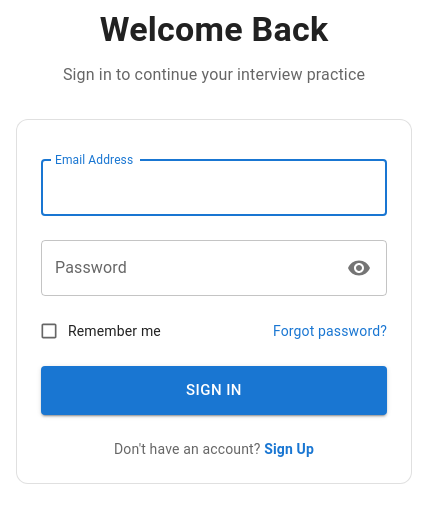
Test: Login Component › Form Validation › shows error when password is too short
Type "test@example.com" into the field labelled "Email Address" at (214, 188), box x1=41 y1=160 x2=387 y2=216
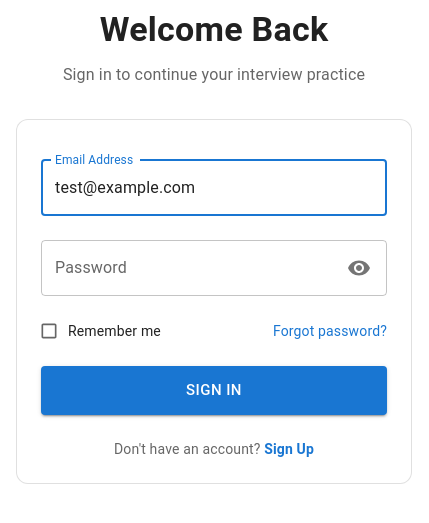
Type "12345" into the password field labelled "Password" at (188, 268), box x1=41 y1=240 x2=334 y2=296
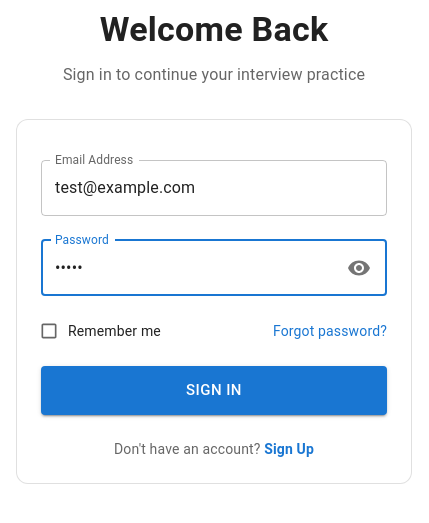
Click the button "Sign In" at (214, 390), box x1=41 y1=366 x2=387 y2=414
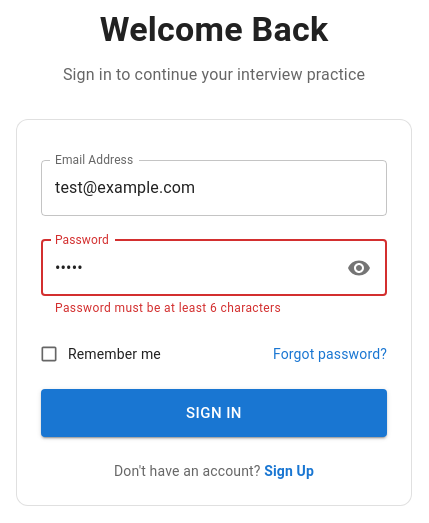
Now the text "Password must be at least 6 characters" is shown, box x1=55 y1=301 x2=281 y2=315
